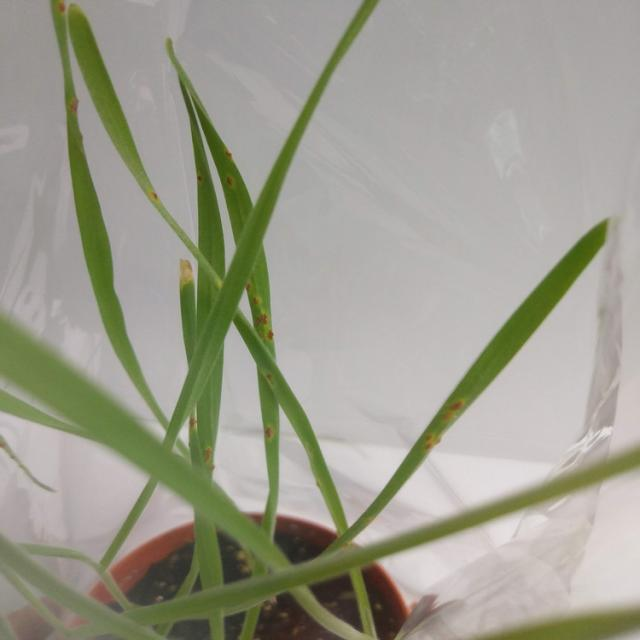wheat-stemrust: (406, 369, 501, 463), (245, 343, 296, 432), (246, 252, 276, 362), (208, 139, 247, 206), (190, 401, 220, 479), (138, 170, 174, 223), (64, 73, 85, 155), (193, 148, 216, 202), (262, 400, 280, 468)
